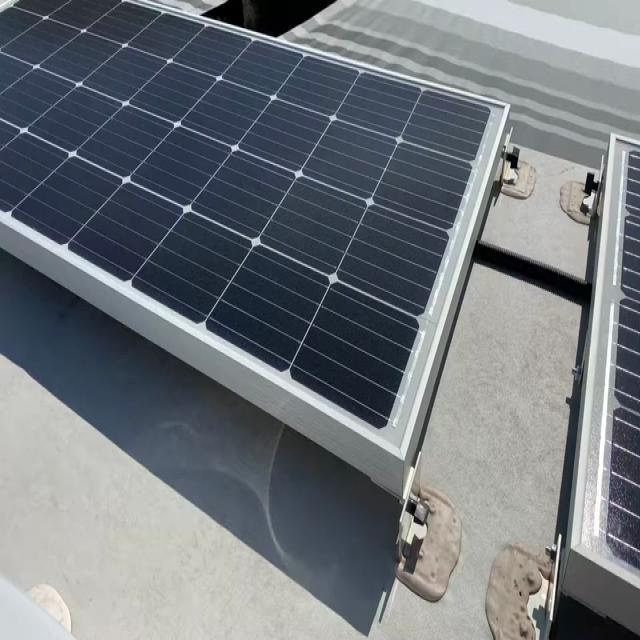Normal Solar Panel: (0, 0, 510, 460), (578, 133, 640, 582)
